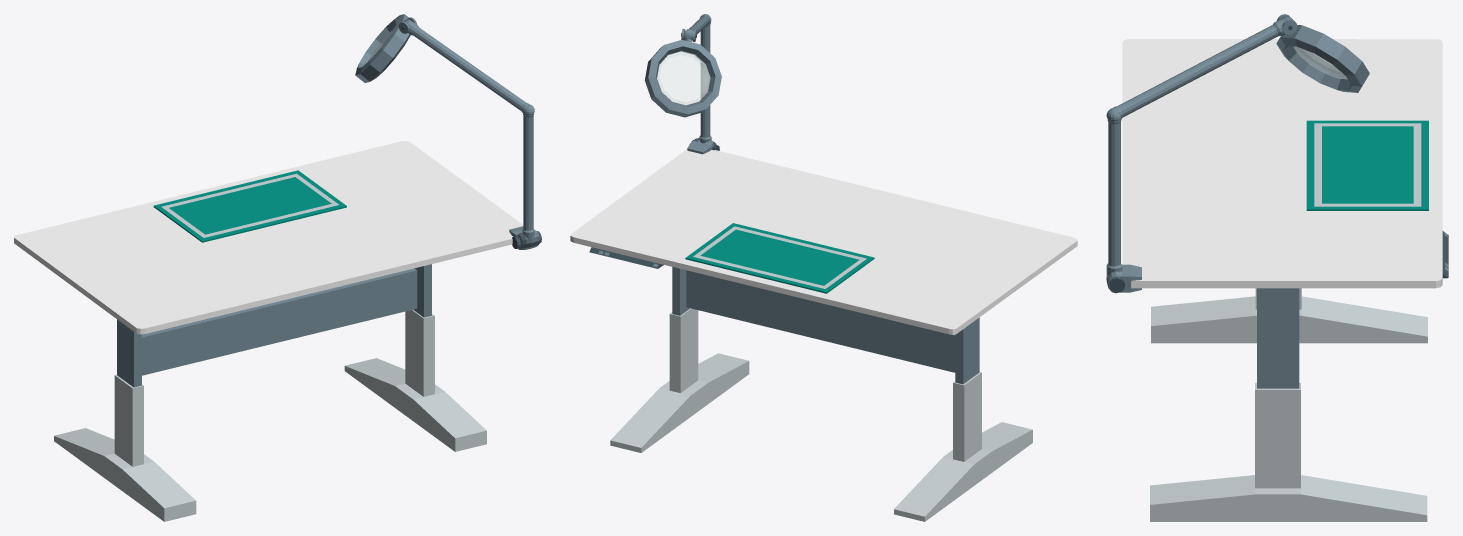
The model's file is Table for VR game.fbx.
3 views of the same model, side by side, from view 1: azimuth 30°, elevation 25°; view 2: azimuth 150°, elevation 25°; view 3: azimuth 270°, elevation 25° (orthographic). The views are drawn at different scales.
Visible parts, largest first — view 1: group1225565333, group388491432, group1823194035, group368928516, group2070709537, group266128311, group288482468, group2090884108, group1412909725, group933813698, group1416516780, group1038318382; view 2: group1225565333, group388491432, group1823194035, group2070709537, group368928516, group1412909725, group288482468, group266128311, group1416516780, group2090884108, group1038318382; view 3: group1225565333, group1823194035, group2070709537, group368928516, group288482468, group1038318382, group1412909725, group2090884108, group933813698.
Part boxes in pixels (bbox=[...]): group1225565333: bbox=[14, 140, 523, 334]; group388491432: bbox=[142, 268, 417, 375]; group1823194035: bbox=[153, 170, 346, 242]; group368928516: bbox=[54, 428, 196, 521]; group2070709537: bbox=[344, 358, 486, 451]; group266128311: bbox=[114, 374, 143, 466]; group288482468: bbox=[405, 309, 434, 396]; group2090884108: bbox=[509, 104, 541, 249]; group1412909725: bbox=[355, 14, 410, 82]; group933813698: bbox=[398, 17, 529, 112]; group1416516780: bbox=[117, 319, 141, 387]; group1038318382: bbox=[413, 264, 431, 317]; group1225565333: bbox=[570, 149, 1077, 334]; group388491432: bbox=[686, 270, 955, 372]; group1823194035: bbox=[685, 223, 874, 293]; group2070709537: bbox=[610, 353, 749, 452]; group368928516: bbox=[894, 422, 1032, 521]; group1412909725: bbox=[644, 40, 721, 117]; group288482468: bbox=[669, 308, 698, 392]; group266128311: bbox=[953, 372, 981, 461]; group1416516780: bbox=[955, 317, 979, 384]; group2090884108: bbox=[687, 14, 719, 154]; group1038318382: bbox=[672, 267, 689, 315]; group1225565333: bbox=[1122, 39, 1442, 288]; group1823194035: bbox=[1306, 120, 1428, 210]; group2070709537: bbox=[1150, 475, 1427, 521]; group368928516: bbox=[1151, 296, 1427, 343]; group288482468: bbox=[1255, 383, 1300, 488]; group1038318382: bbox=[1257, 288, 1299, 388]; group1412909725: bbox=[1276, 25, 1369, 92]; group2090884108: bbox=[1106, 108, 1141, 293]; group933813698: bbox=[1113, 14, 1297, 118].
Bounding box in the file's own units: 588 × 552 × 349.
